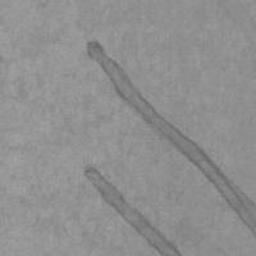Water spot: (86, 38, 256, 242), (83, 166, 184, 256)
